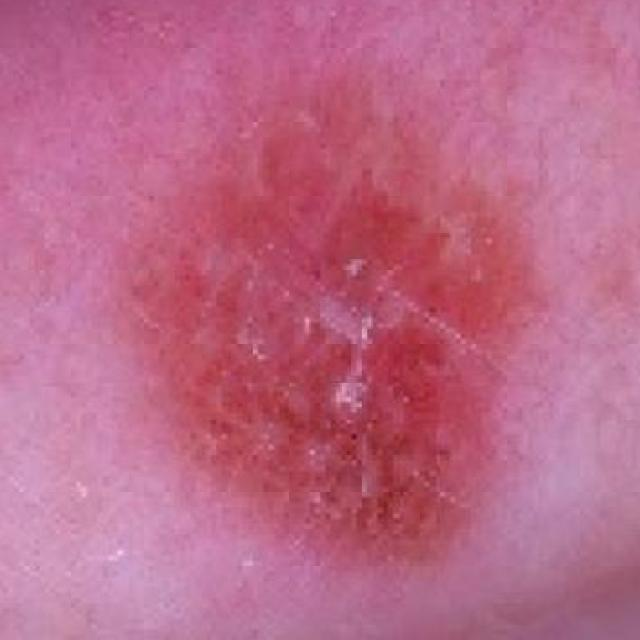MEL: (142, 107, 609, 614)
